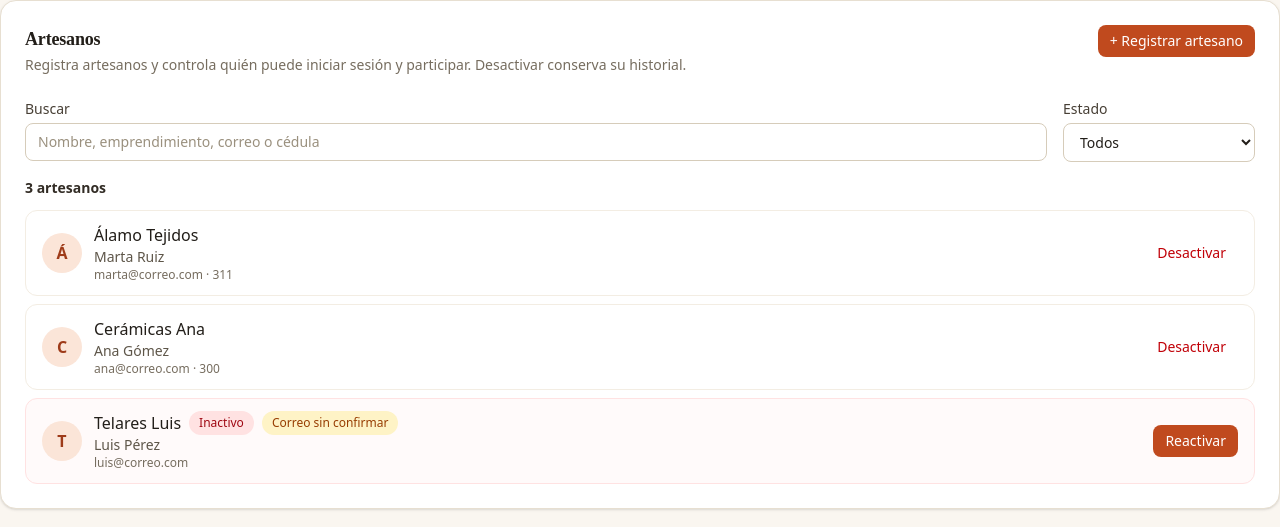
GestionArtesanos: búsqueda y filtro › busca por cédula y por correo
This screenshot has width=1280, height=527.
Type "2020" into the search field labelled "Buscar" at (536, 142), box [25,123,1047,161]
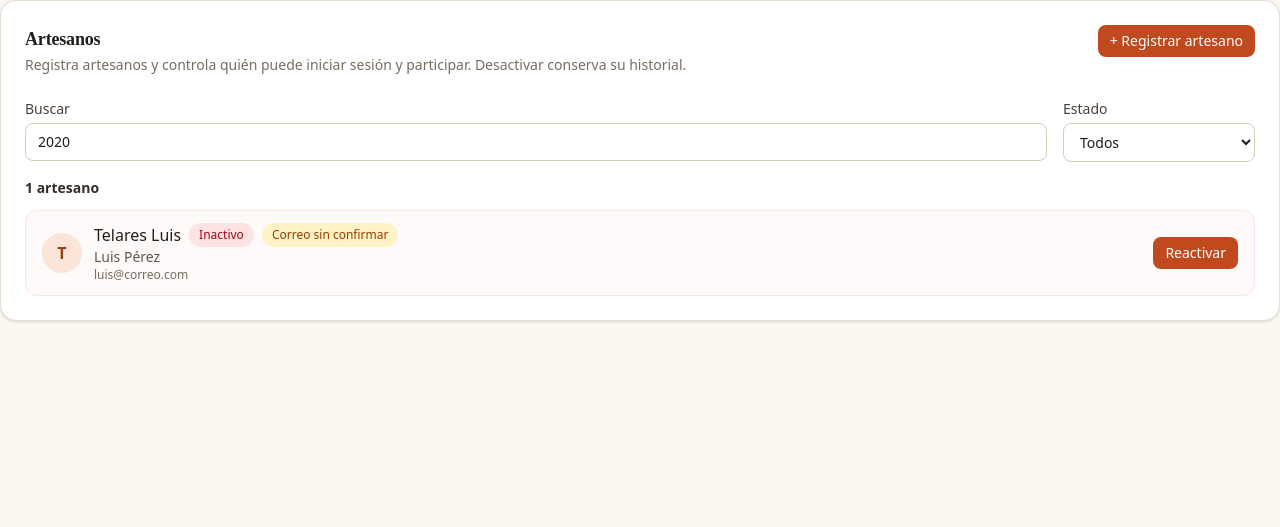
Expected: the text "Telares Luis" is shown, [94,223,181,247]
Replace the text in the search field labelled "Buscar" with "marta@" at (536, 142), box [25,123,1047,161]
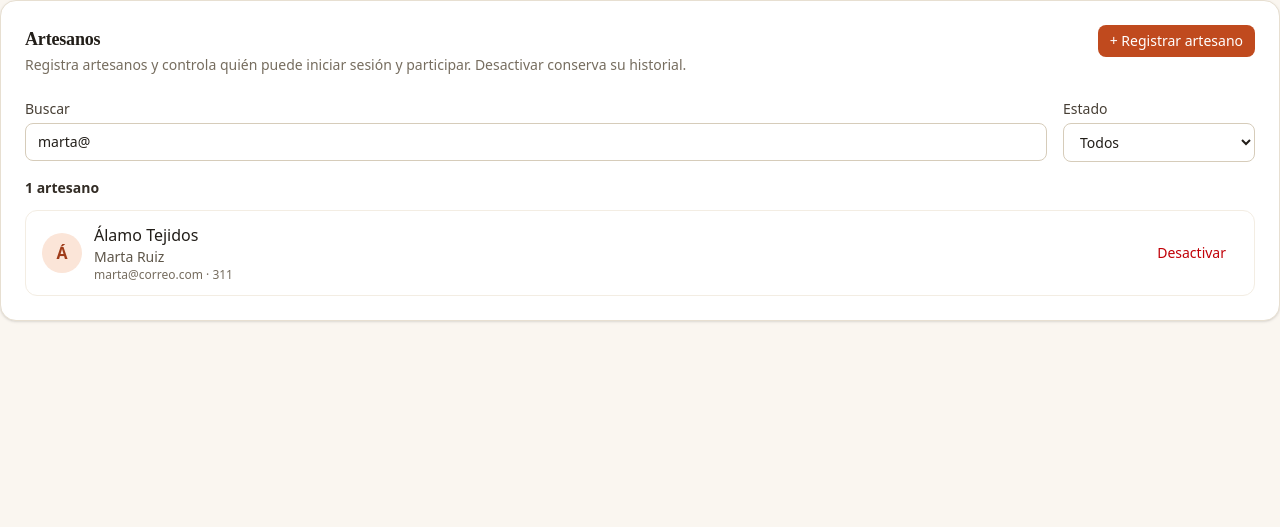
Now the text "Álamo Tejidos" is shown, box [94,223,198,247]
